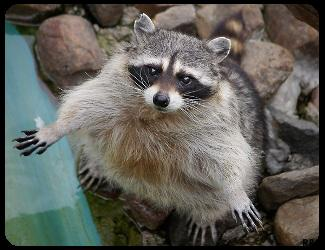raccoon: (15, 12, 265, 241)
